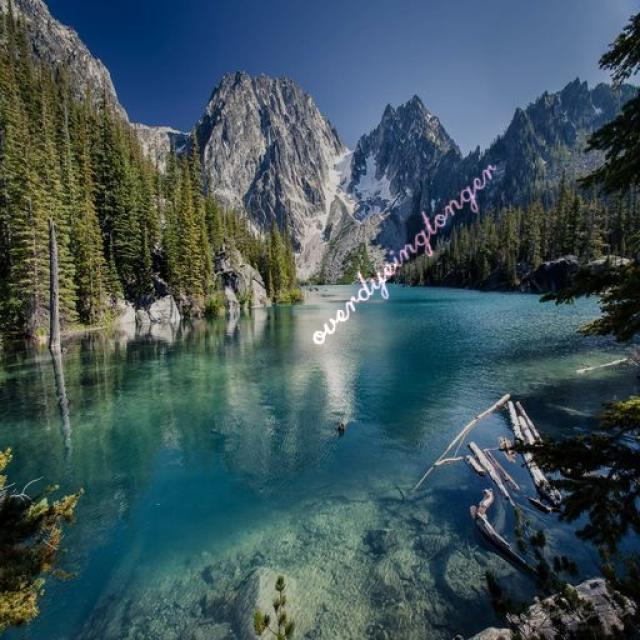watermark: (309, 142, 499, 352)
